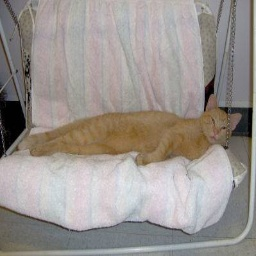cat: (21, 91, 237, 166)
